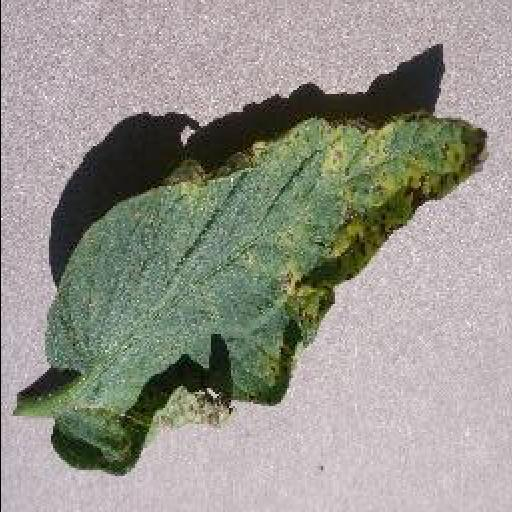disease_tomato: (41, 114, 491, 478)
